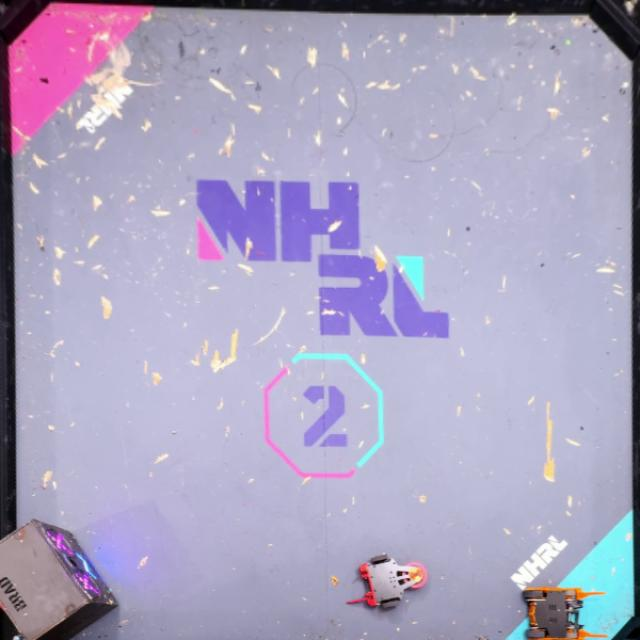housebot: (0, 517, 121, 640)
robot: (519, 584, 609, 640), (348, 553, 428, 610)
